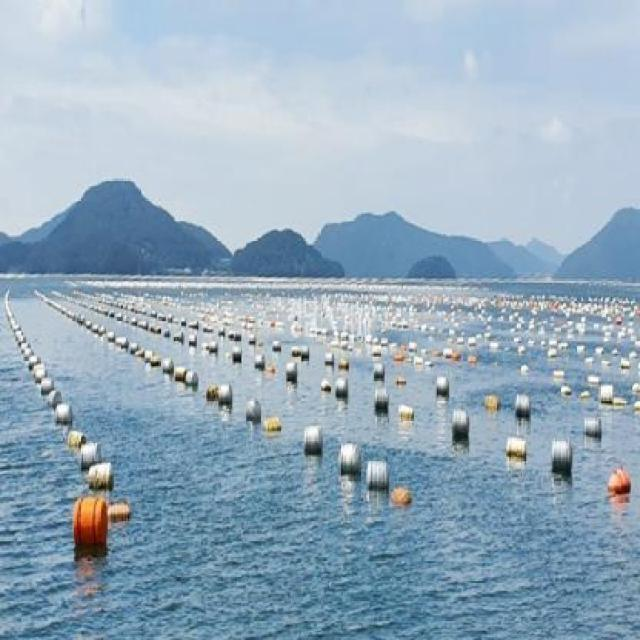a: (66, 491, 117, 554), (601, 466, 636, 509), (502, 427, 533, 473), (445, 401, 474, 450), (551, 428, 577, 479), (363, 452, 391, 499), (581, 408, 610, 451), (302, 421, 329, 466), (390, 482, 419, 519), (513, 386, 537, 430), (87, 458, 118, 492), (339, 440, 363, 483), (76, 441, 105, 475), (283, 359, 308, 396), (332, 372, 355, 410), (245, 393, 266, 434), (216, 380, 236, 419), (435, 370, 456, 407), (373, 382, 394, 419), (261, 413, 286, 442), (486, 389, 507, 421), (56, 401, 80, 429), (184, 363, 200, 402), (398, 398, 419, 427), (66, 427, 90, 452), (46, 391, 67, 414), (206, 383, 222, 409), (232, 343, 245, 368), (320, 374, 334, 397), (175, 369, 189, 389), (209, 336, 220, 359), (253, 348, 264, 369)
